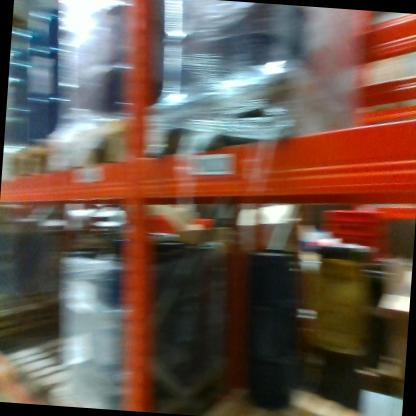pallet: (33, 97, 275, 253)
